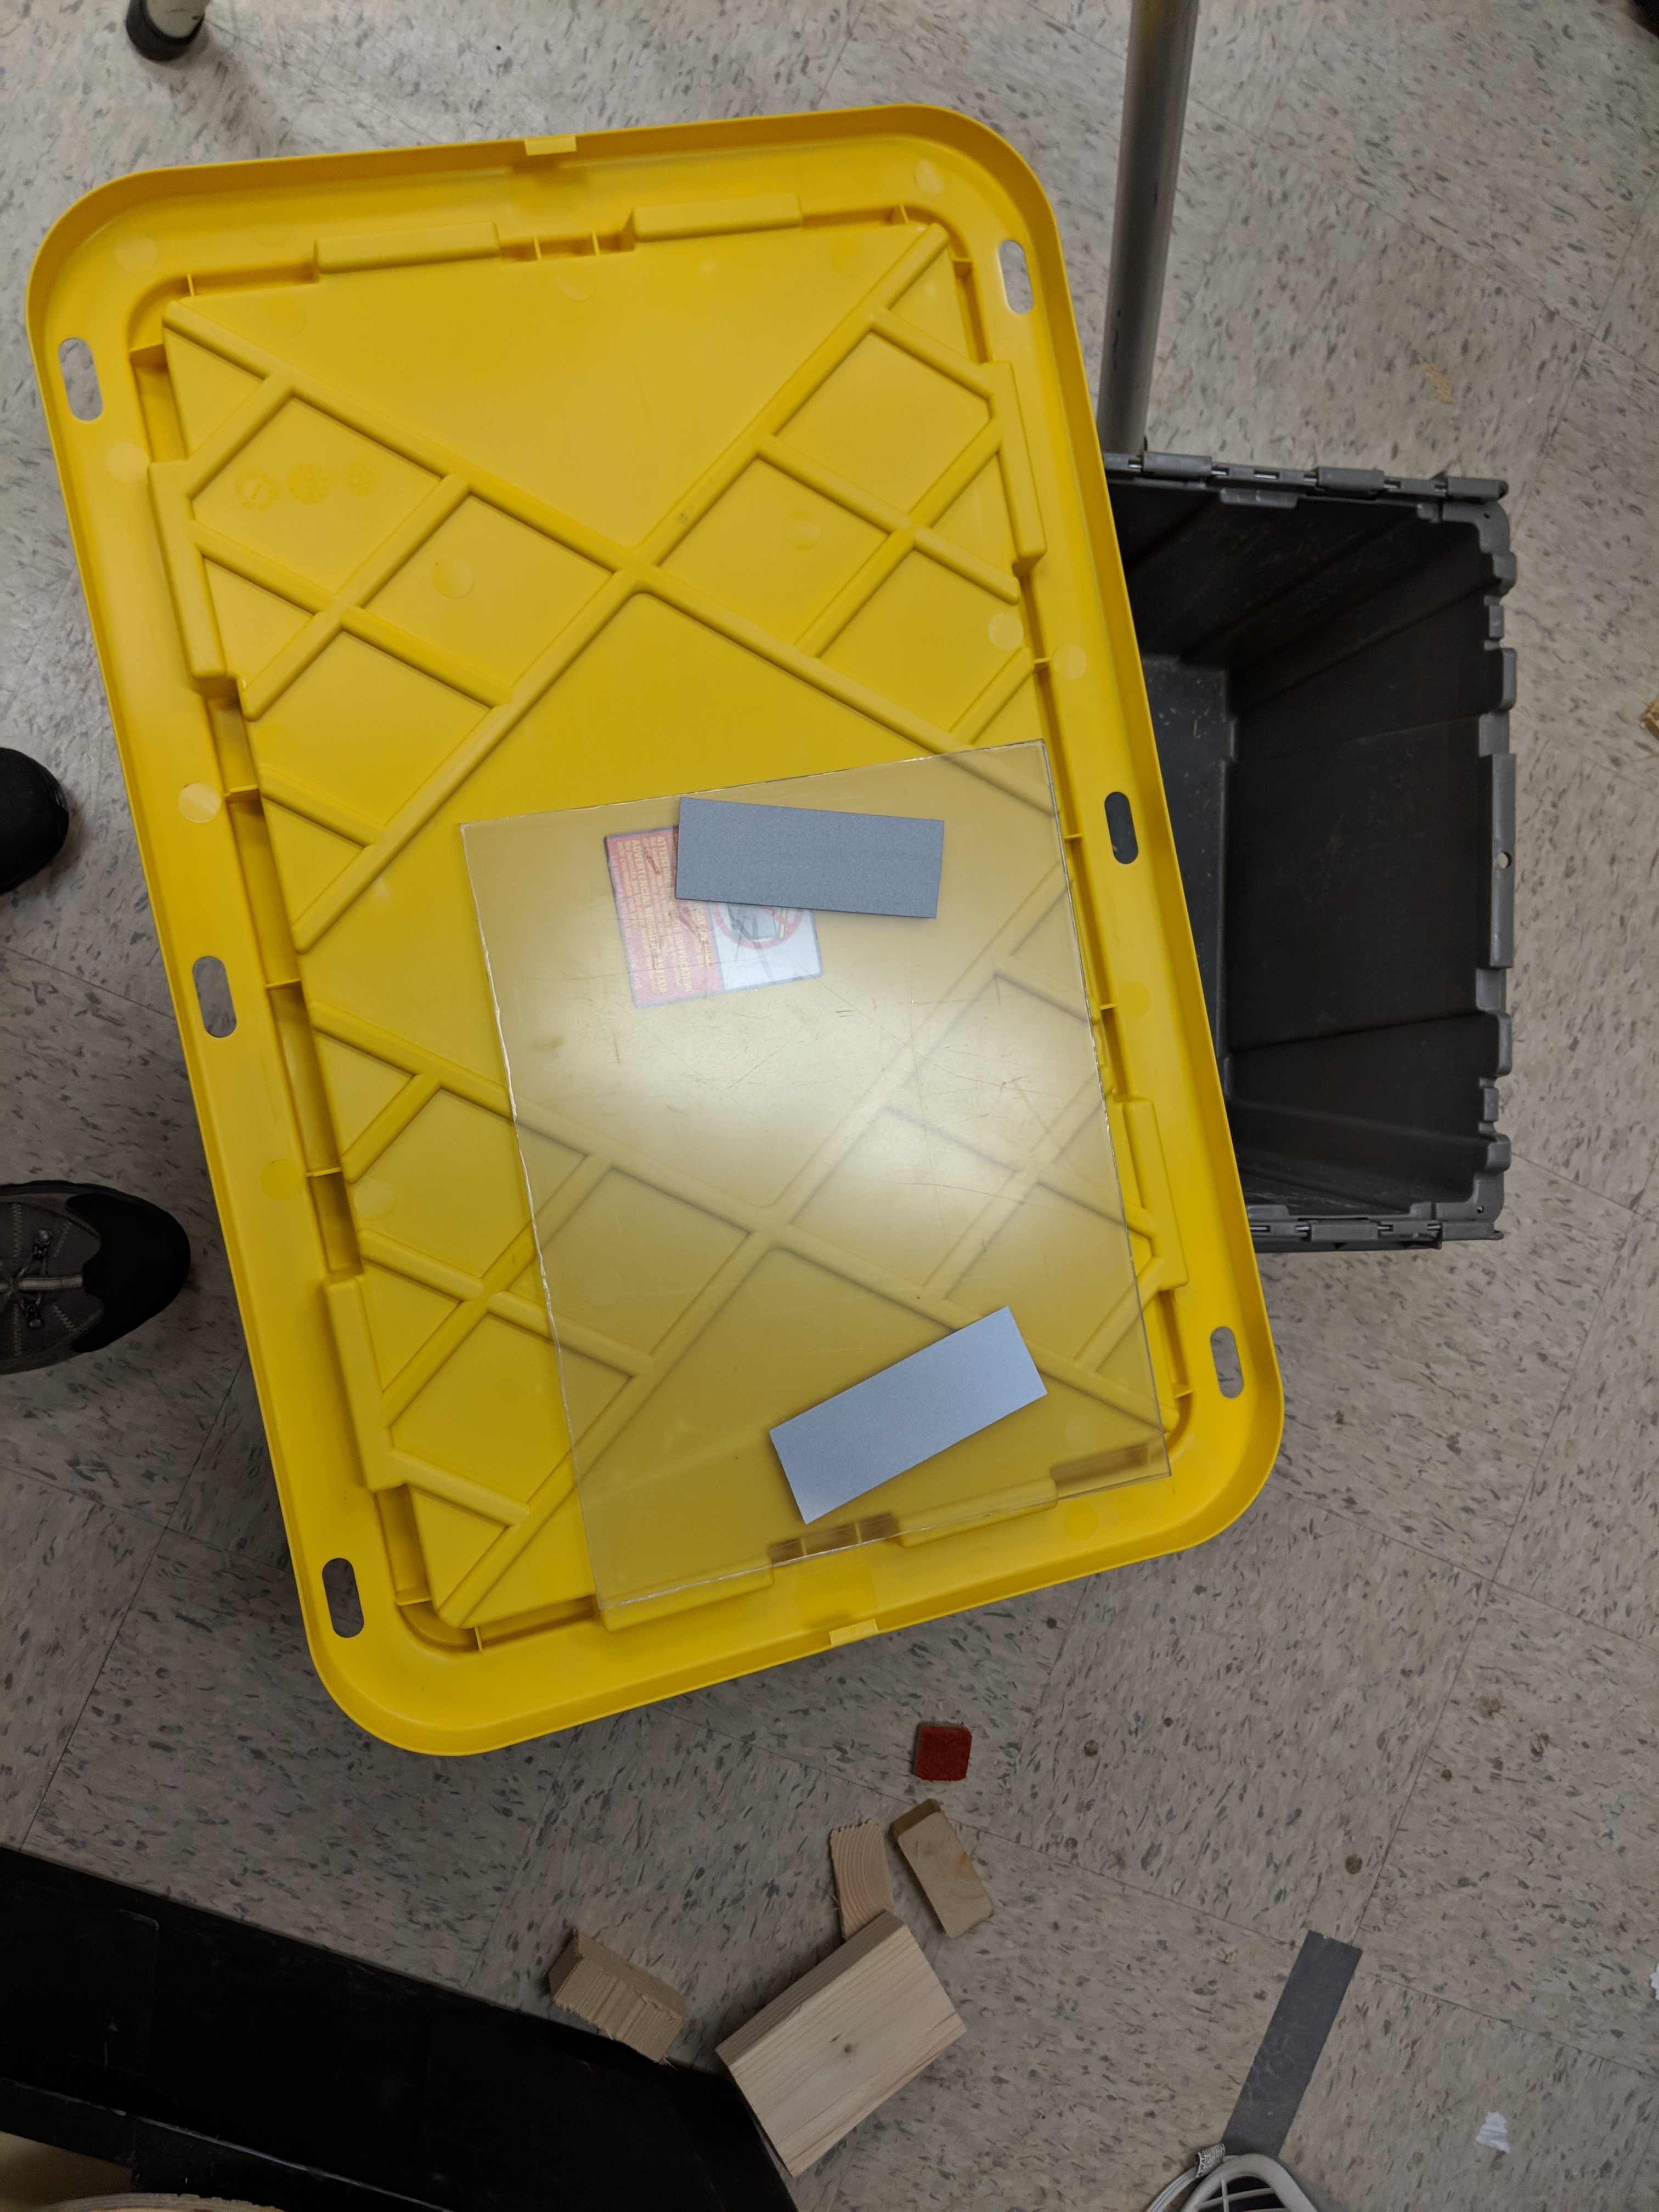vision_target: (653, 787, 1073, 1536)
